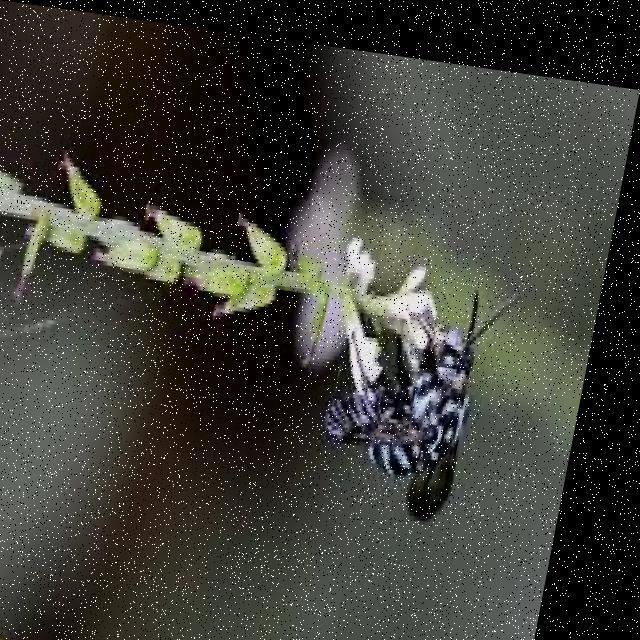Thyreus: (322, 264, 517, 527)
